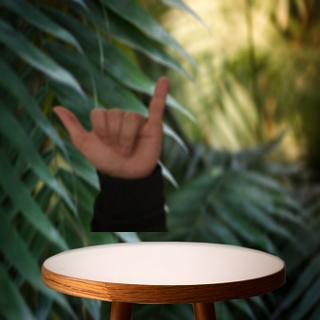HAVE: (48, 73, 175, 180)
